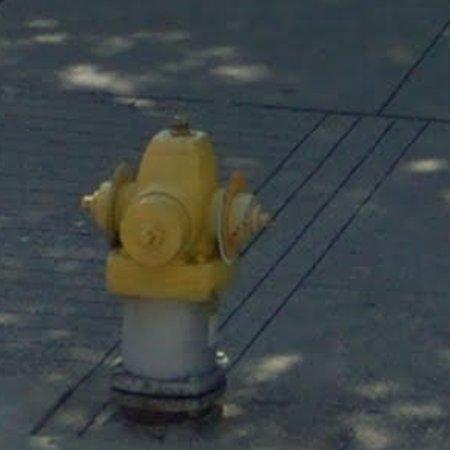a fire hydrant: (82, 126, 268, 415)
